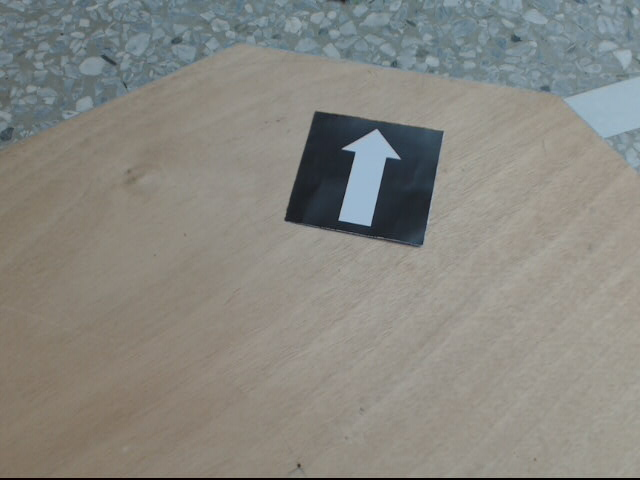straight: (284, 112, 447, 249)
